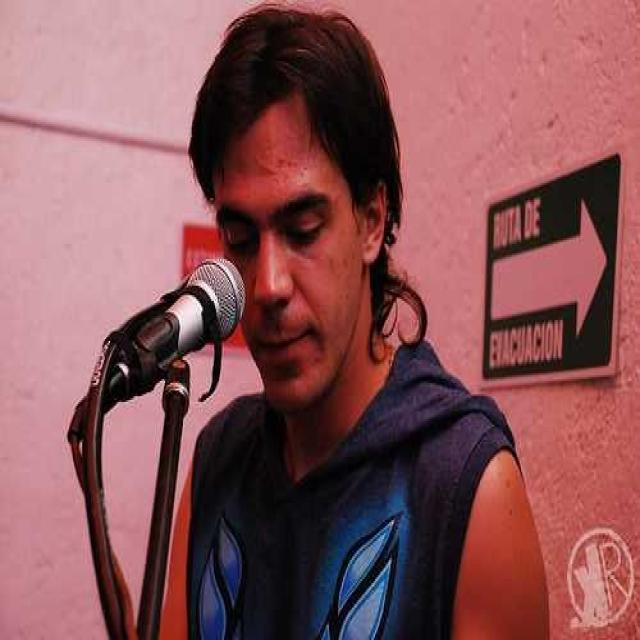microphone: (110, 254, 248, 400)
